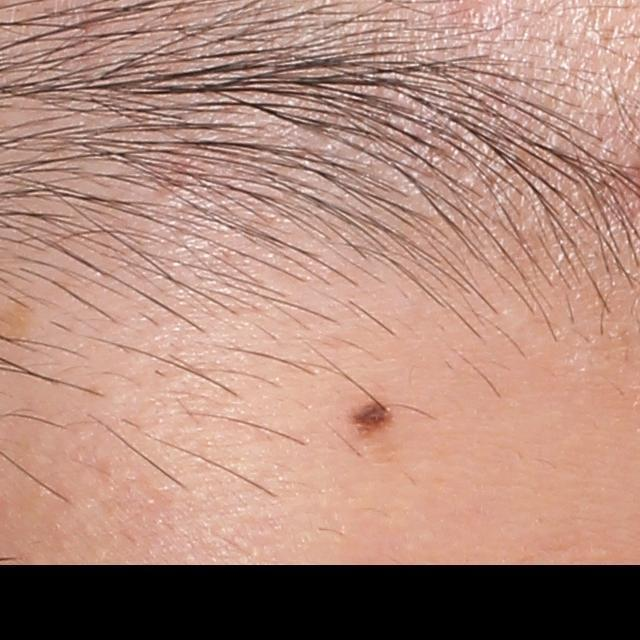nevus: (344, 401, 395, 437)
